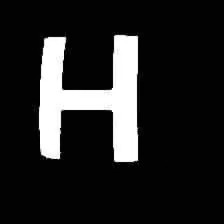LTR_H: (35, 26, 142, 163)
